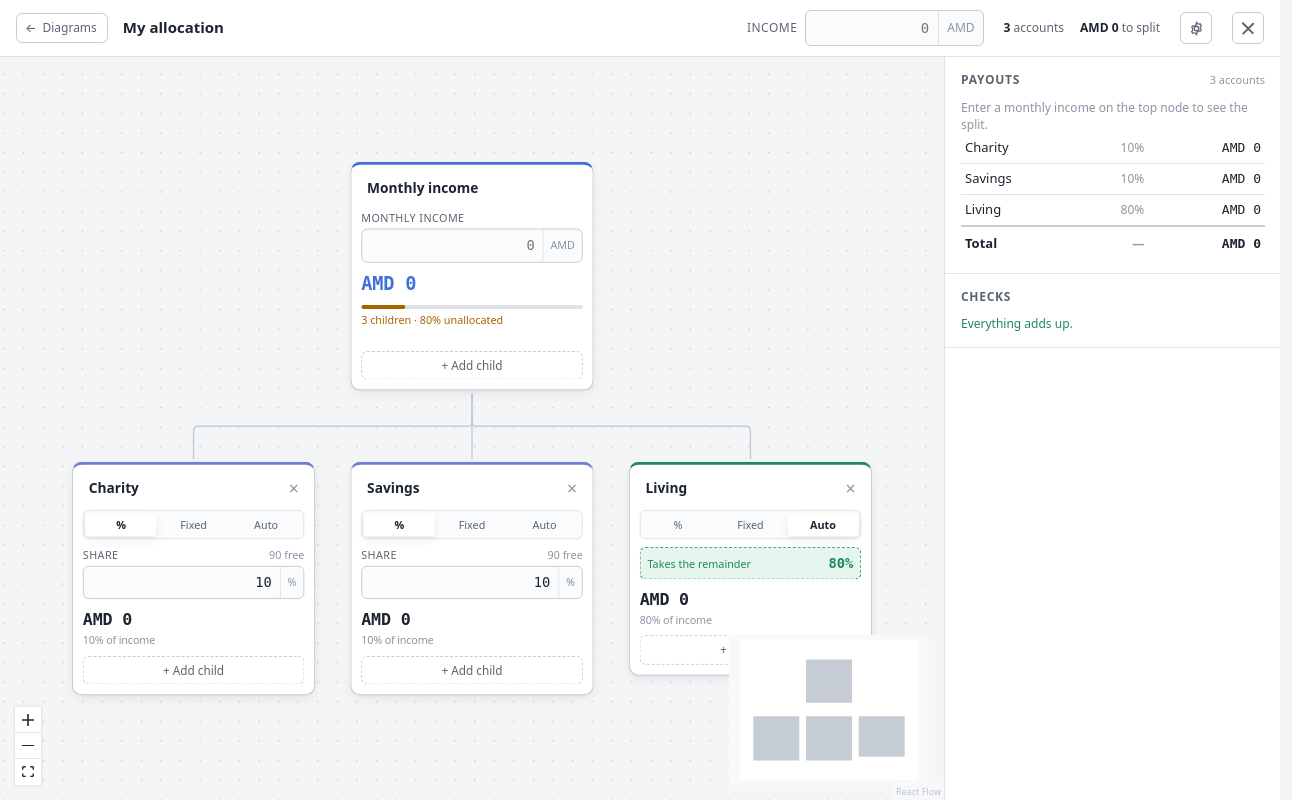
the sidebar toggle › collapses and reopens on click
Click the button named "panels": (1248, 28) [1232, 12, 1264, 44]
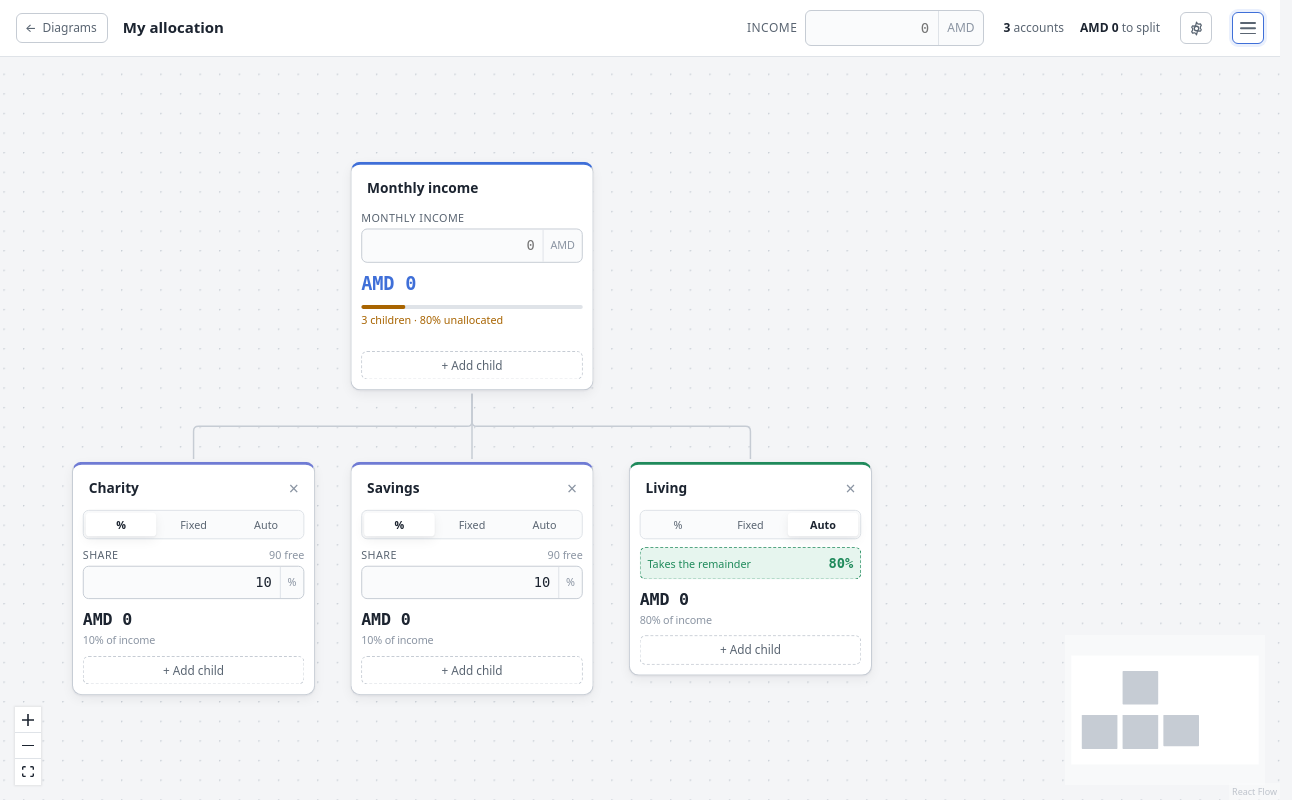
Expected: the button named "panels" is collapsed
Click the button named "panels": (1248, 28) [1232, 12, 1264, 44]
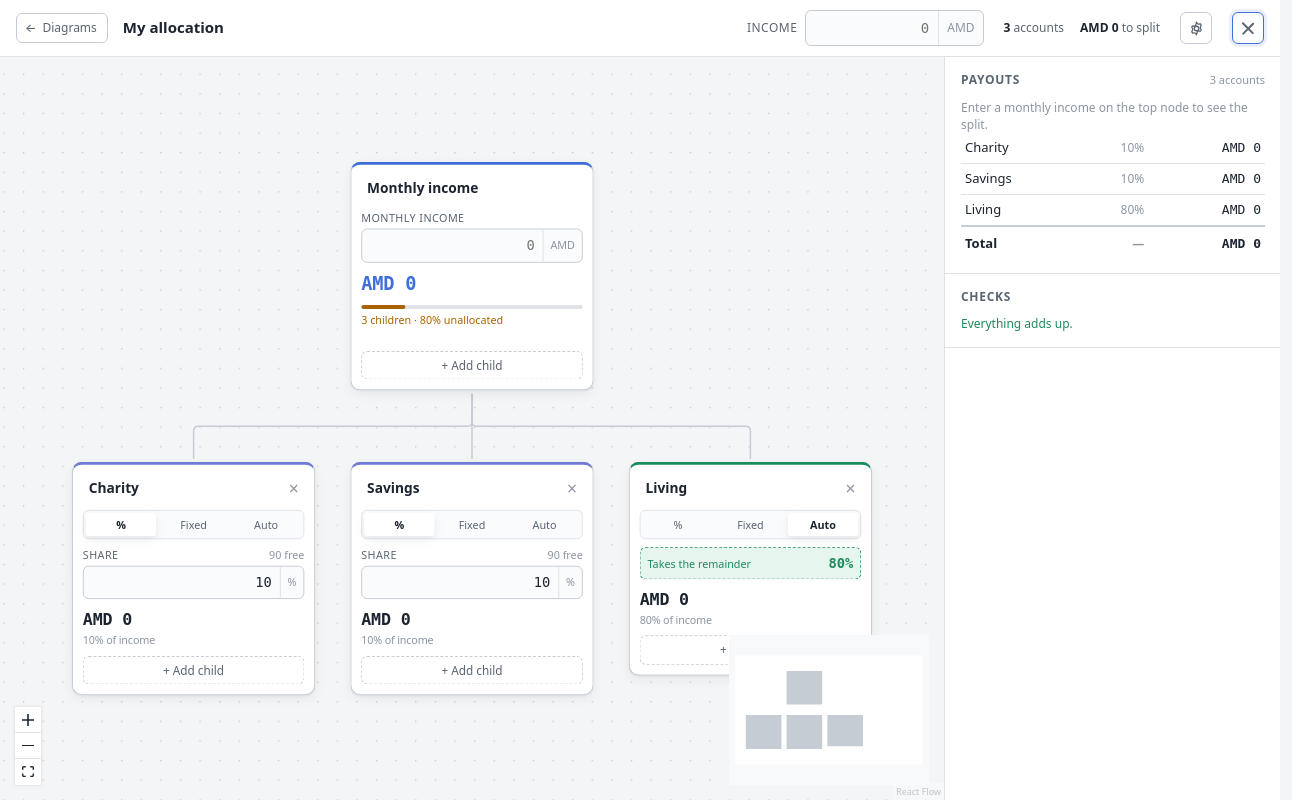
Expected: the button named "panels" is expanded, [1232, 12, 1264, 44]
